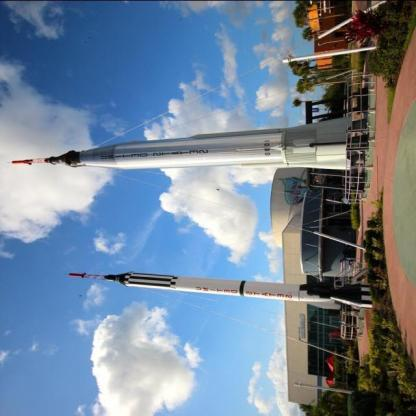MIL_TBM: (53, 120, 366, 168), (64, 268, 329, 301)
